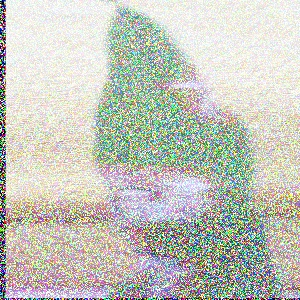Brown_Spot: (93, 154, 229, 235), (150, 68, 248, 134), (120, 244, 199, 298)
